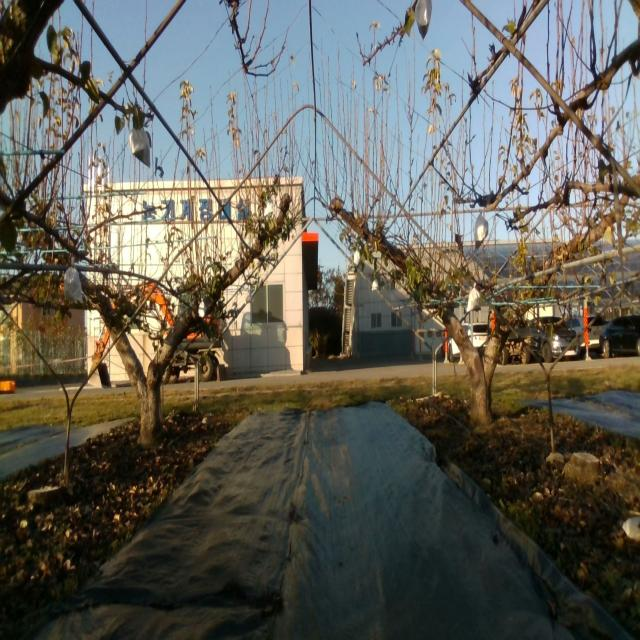pearbags: (128, 125, 150, 169), (64, 264, 82, 305), (413, 0, 431, 41), (474, 212, 489, 250), (466, 284, 482, 312)
